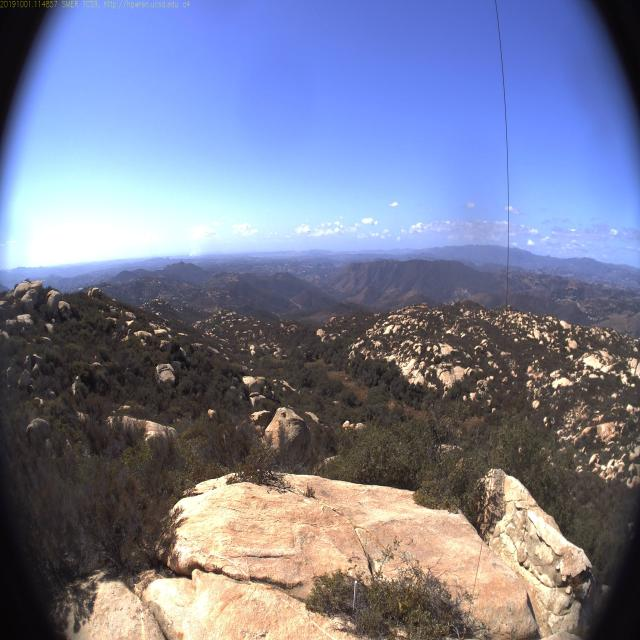smoke: (182, 240, 208, 260)
